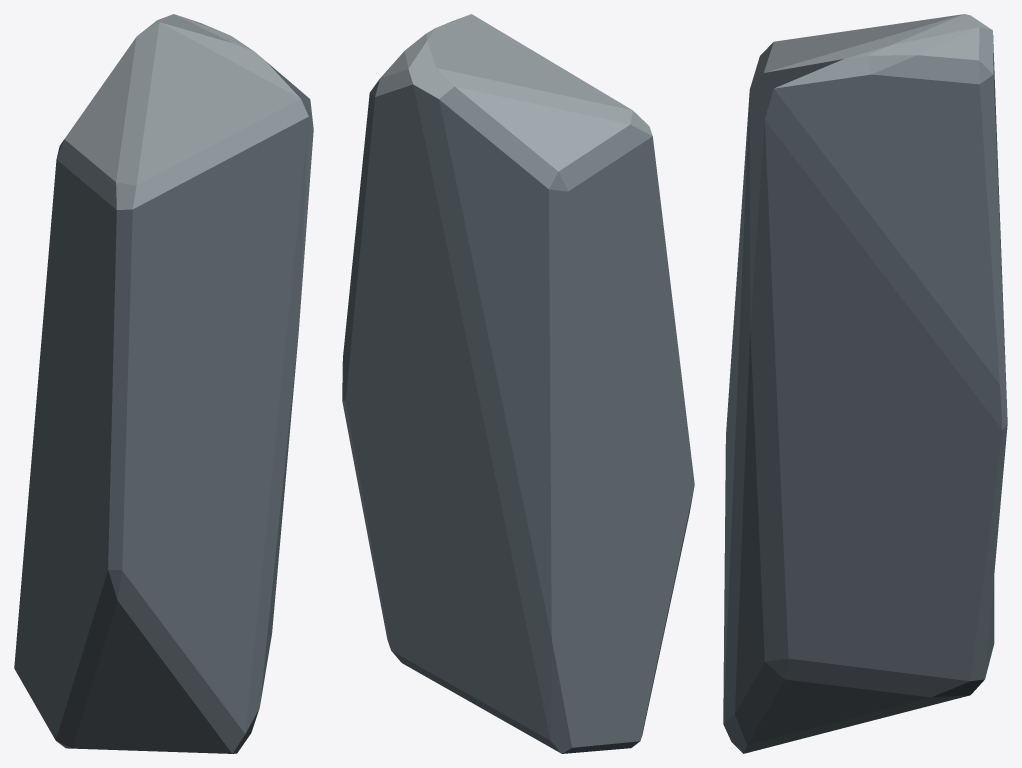
File: boulder-pillar.glb
3 renders of one model, left to right at view 1: azimuth 30°, elevation 25°; view 2: azimuth 150°, elevation 25°; view 3: azimuth 270°, elevation 25°, orthographic. The views are drawn at different scales.
Visible parts, largest first — view 1: boulder-pillar; view 2: boulder-pillar; view 3: boulder-pillar.
Boxes of the visible parts, x1,y1,x2,y2 form: boulder-pillar: (14, 14, 313, 753); boulder-pillar: (342, 14, 694, 753); boulder-pillar: (723, 14, 1007, 753).
Bounding box in the file's own units: 0.761 × 2.12 × 0.7269.
